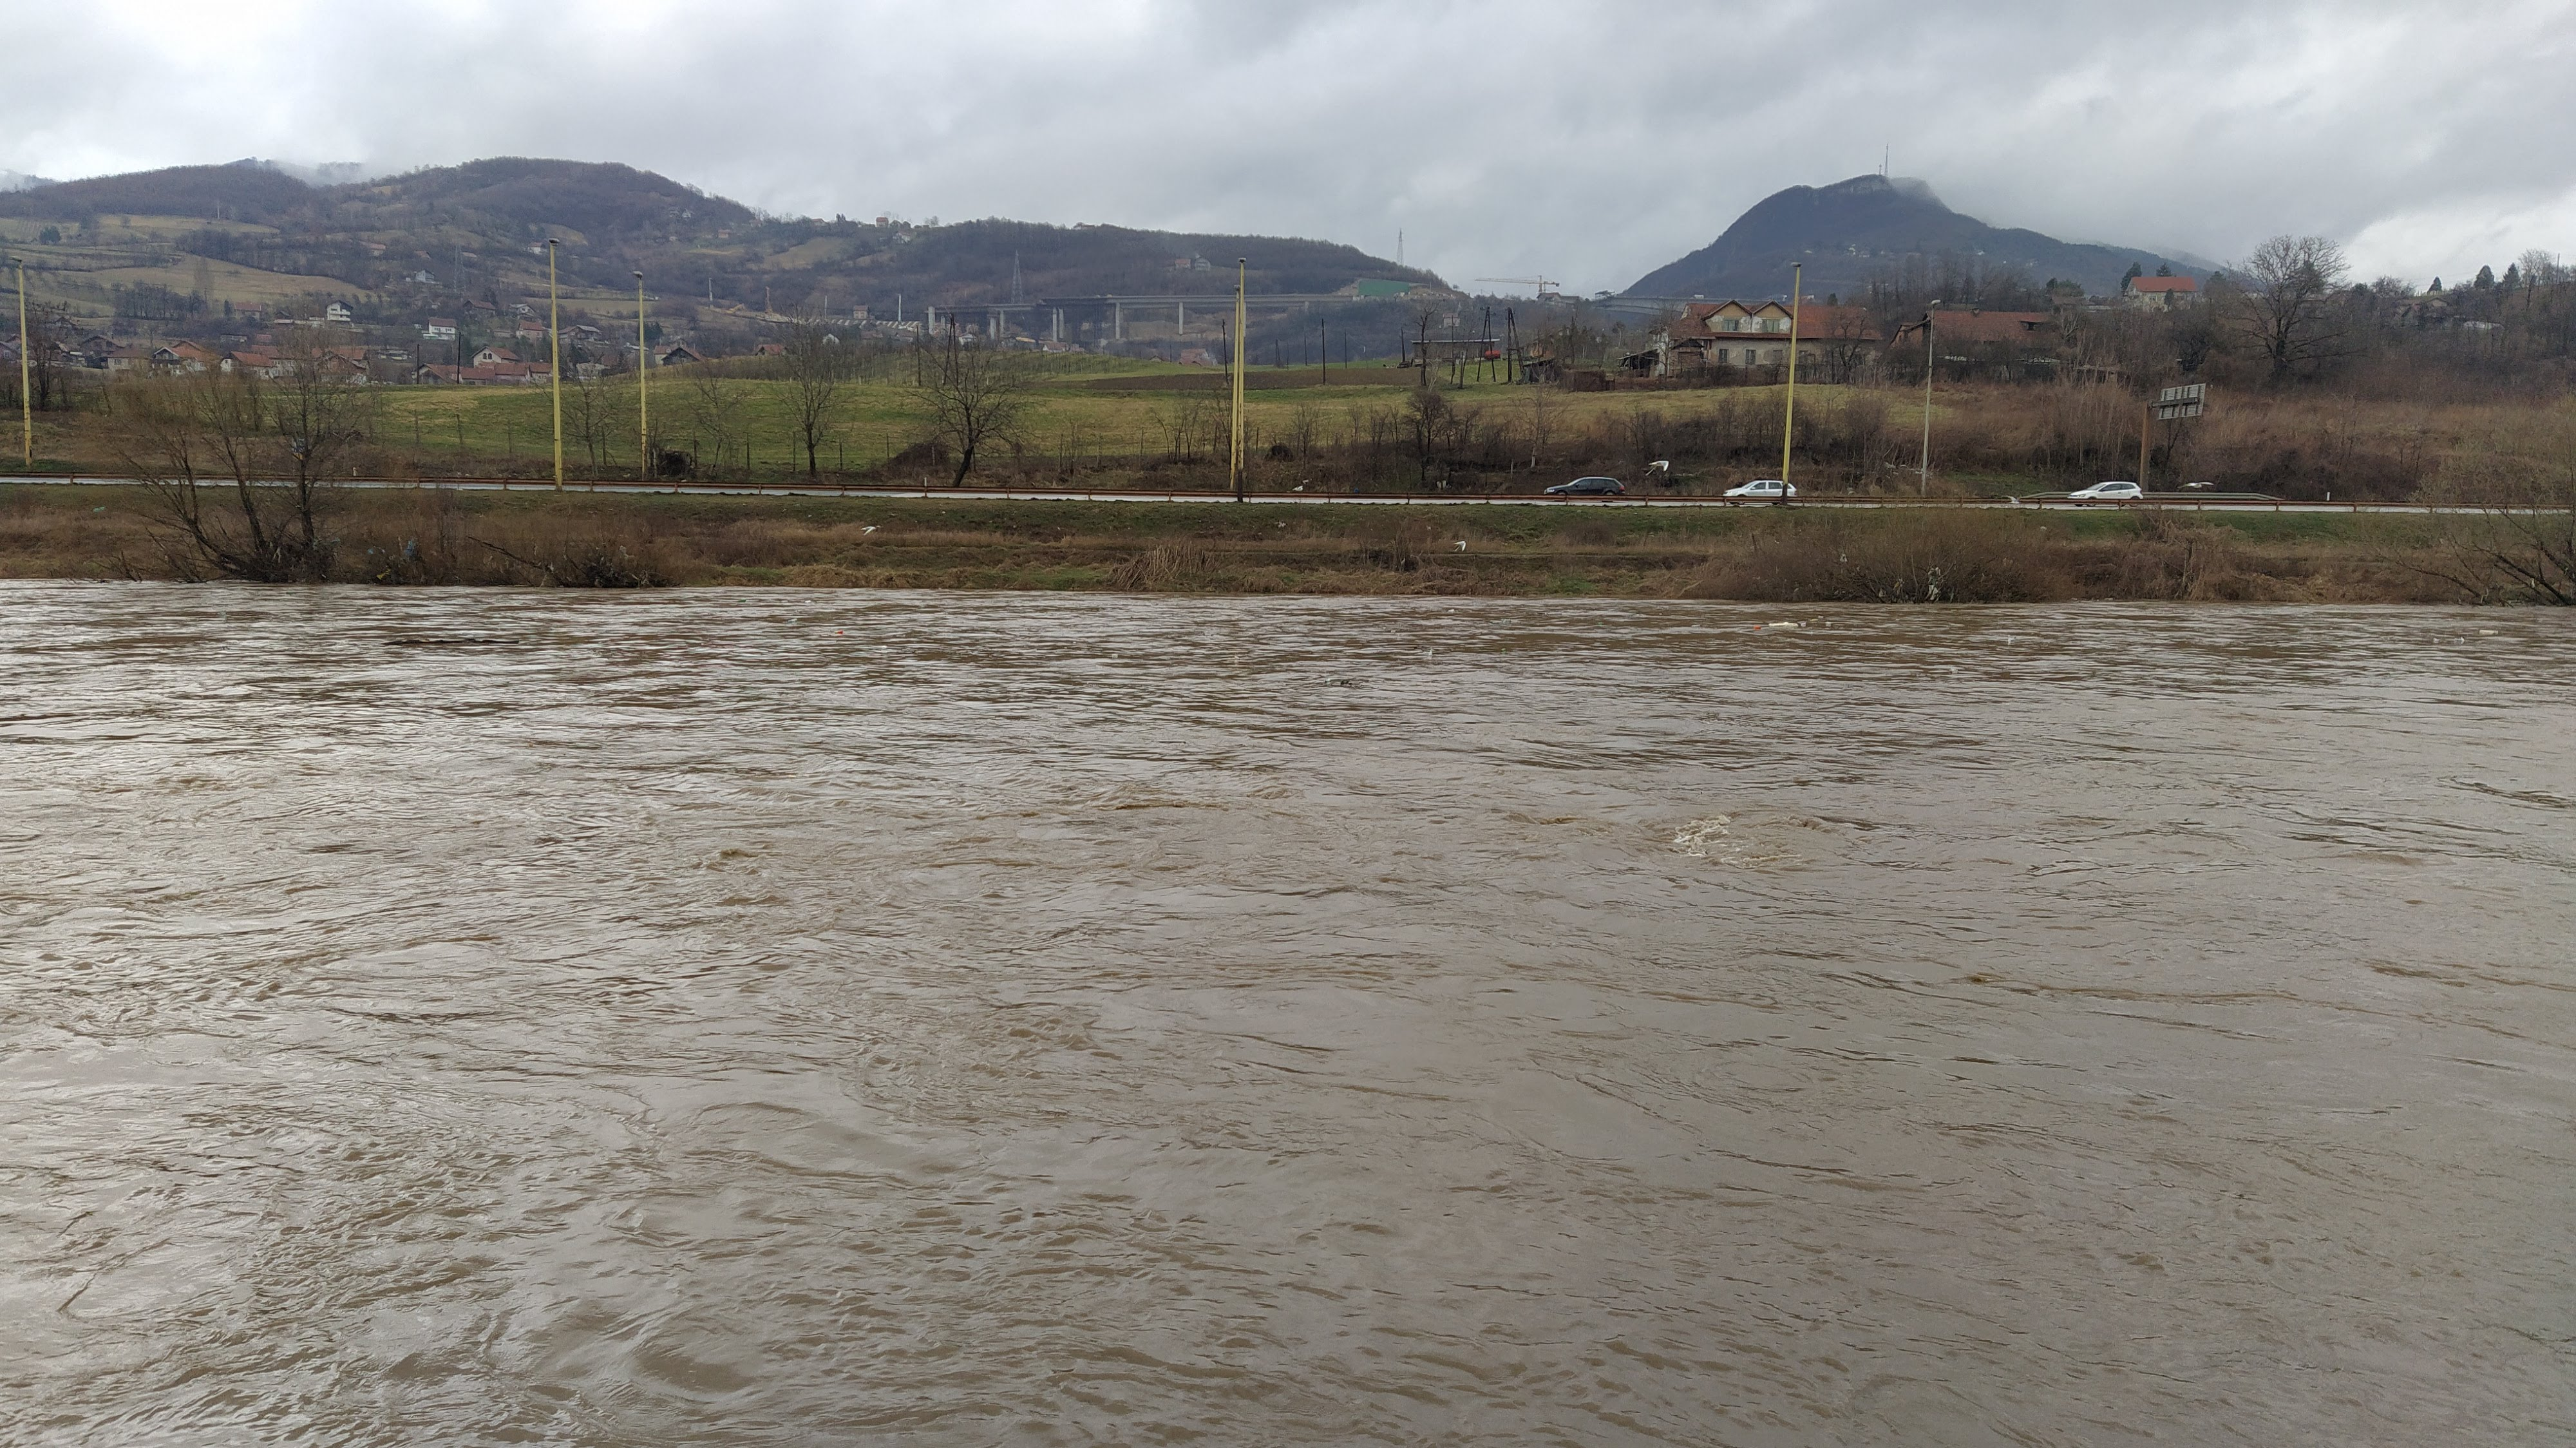Plastic Bottle: (789, 618, 796, 623), (835, 630, 844, 634), (1502, 620, 1511, 623), (1948, 669, 1957, 673), (1755, 625, 1760, 628), (736, 598, 743, 600)
